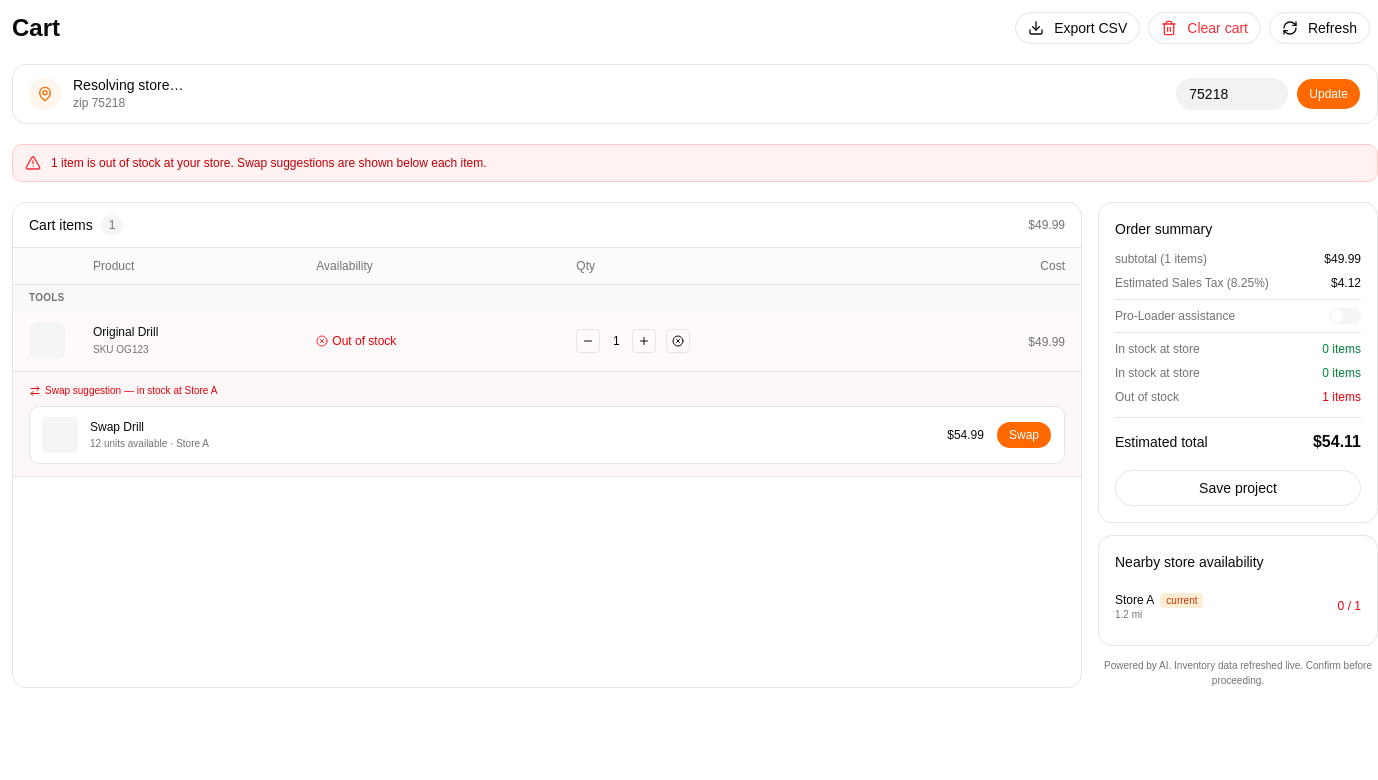
Test case: Cart swap flow › swap replaces original item with correct fields
The image size is (1378, 780).
expect the text "Swap Drill" is shown: met, box x1=90 y1=420 x2=144 y2=434
Click the button "Swap" at (1024, 435), box x1=996 y1=421 x2=1052 y2=449
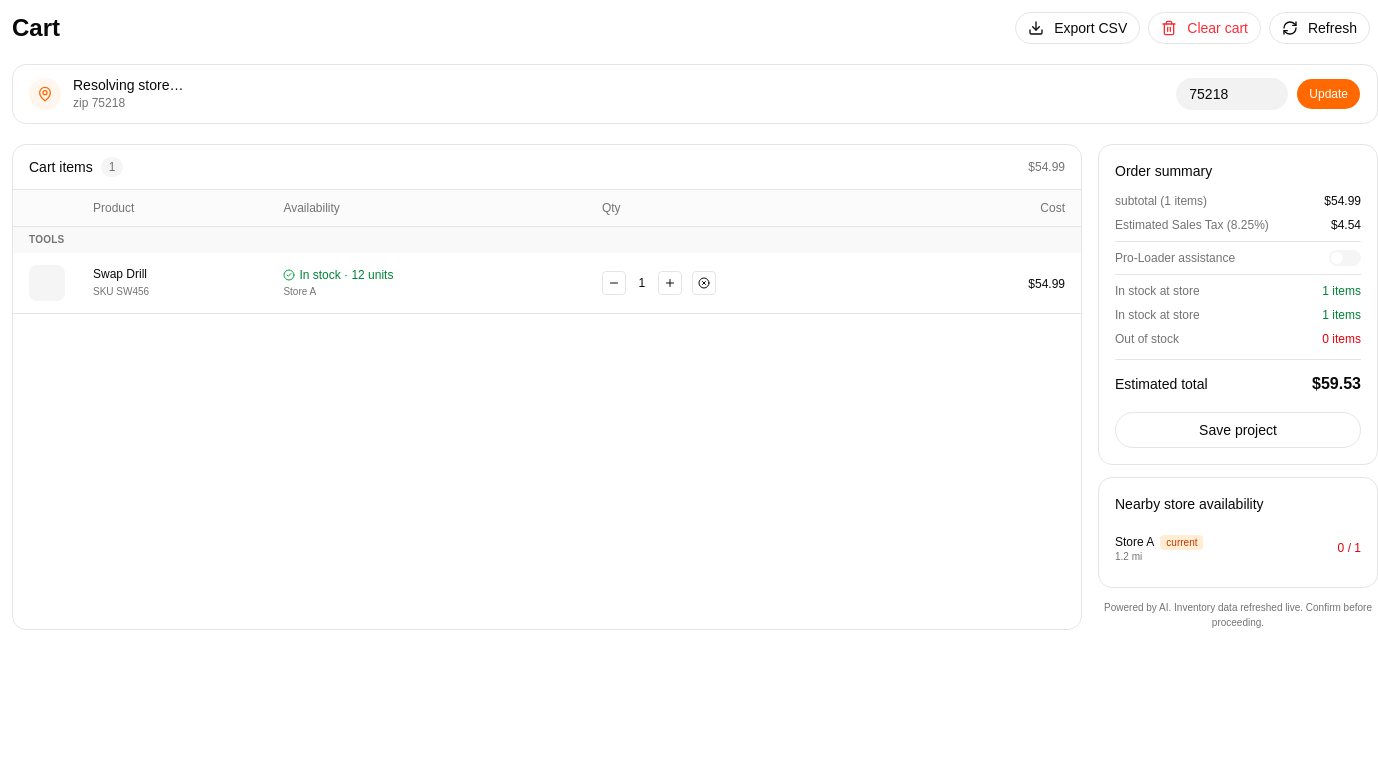
expect the table shows "$54.99": met, box x1=13 y1=190 x2=1081 y2=314
expect the link "Swap Drill" is shown: met, box x1=93 y1=267 x2=147 y2=281
expect the text "SKU SW456" is shown: met, box x1=93 y1=286 x2=149 y2=297
